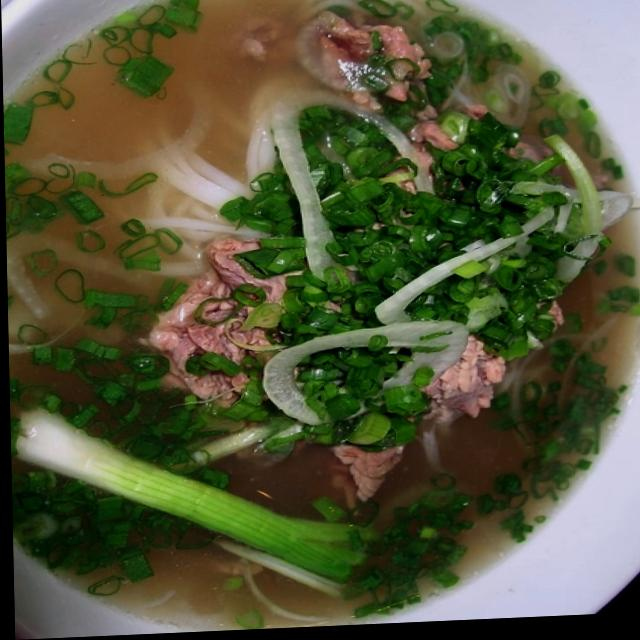面条主食: (2, 9, 636, 626)
